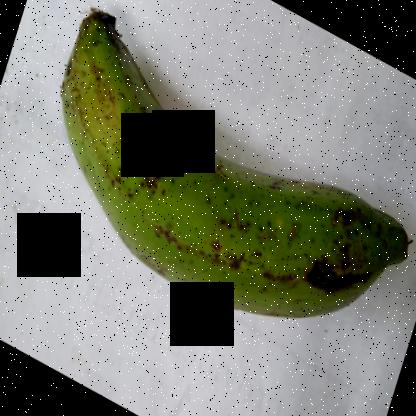rotten: (289, 221, 386, 310)
unripe: (51, 0, 415, 344)
